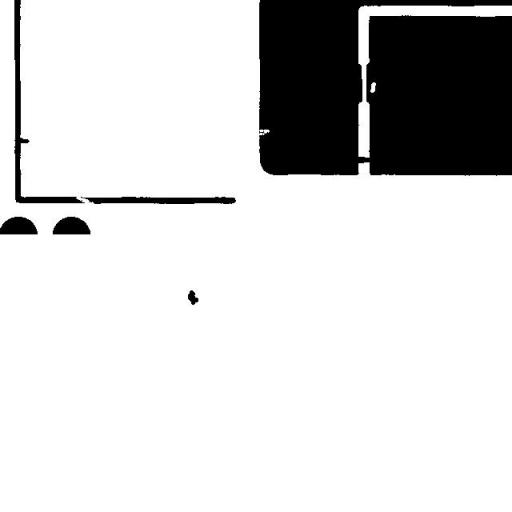copper: (180, 282, 206, 312)
mousebite: (248, 122, 277, 142)
open: (68, 189, 101, 212)
pin-hole: (362, 74, 384, 100)
short: (345, 149, 379, 170)
spur: (8, 129, 37, 151)
